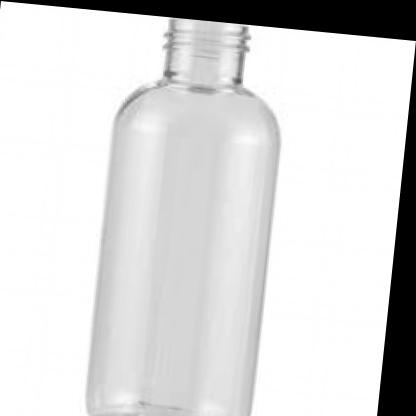trash: (87, 19, 278, 415)
